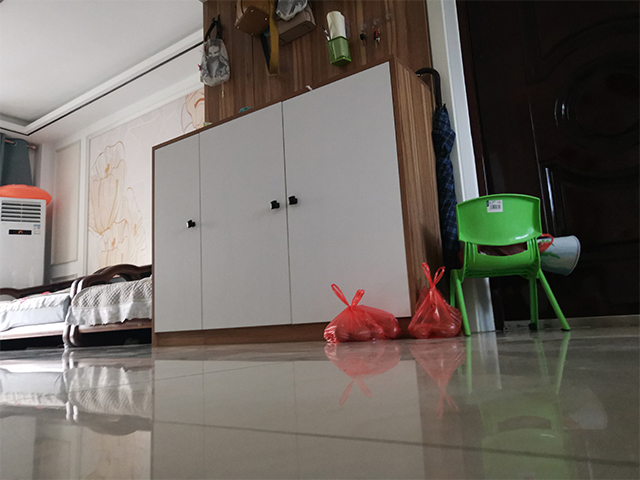cabinet: (148, 60, 429, 348)
sofa: (1, 260, 156, 351)
stool: (446, 191, 573, 338)
